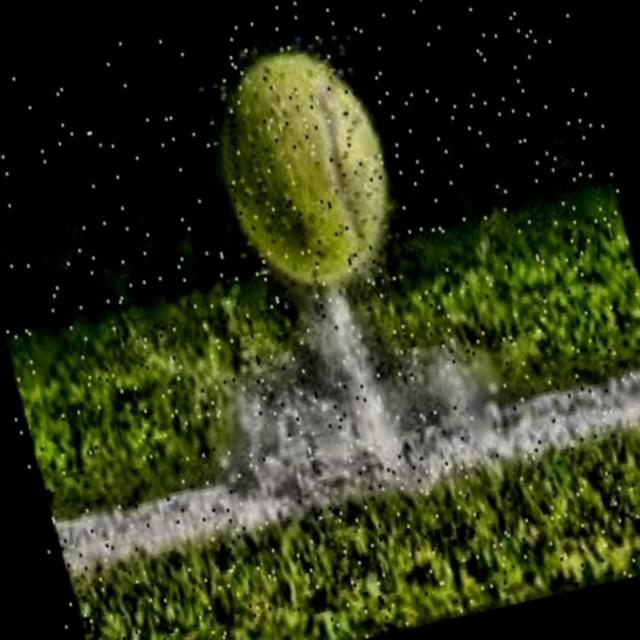tennis-ball: (190, 21, 416, 319)
